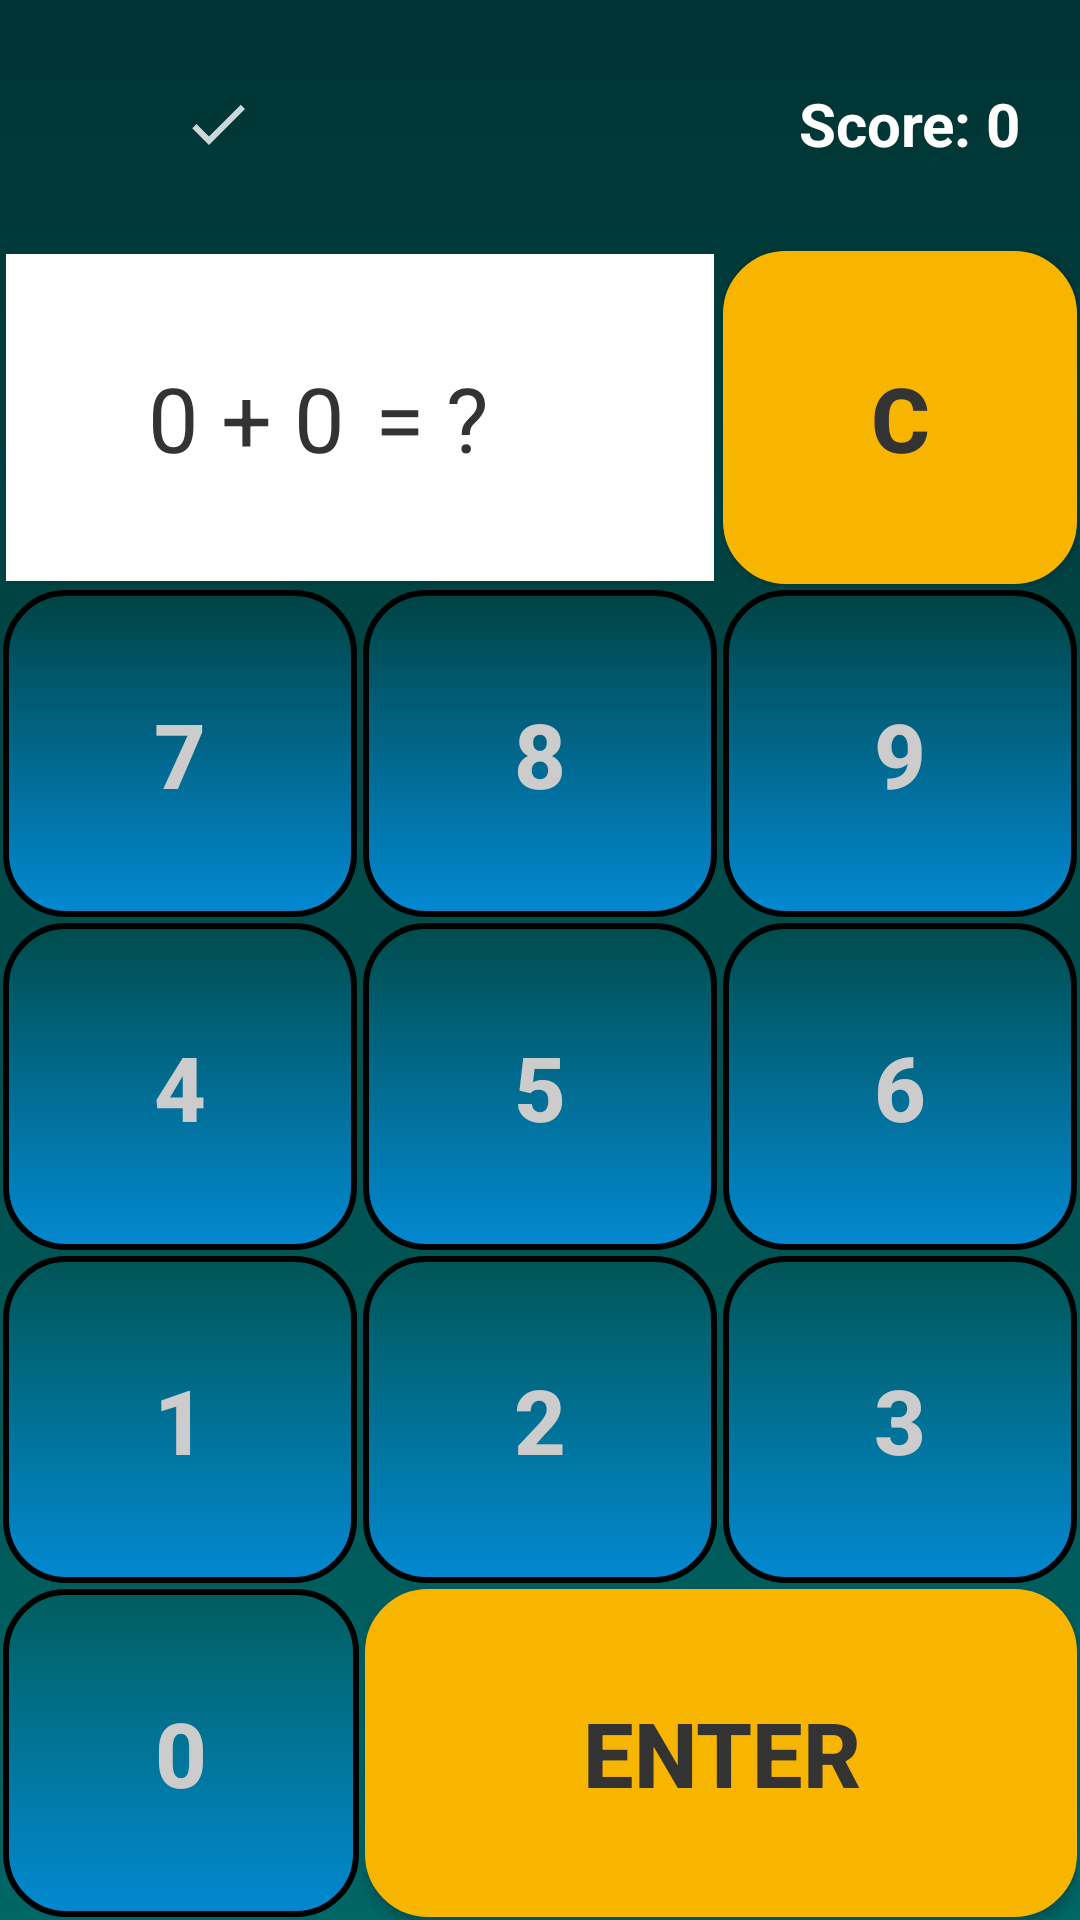

Where icons sit on this 1080px×1920px app screen, as box=[x1, y1, x2, y2]:
result: box=[192, 105, 245, 145]
